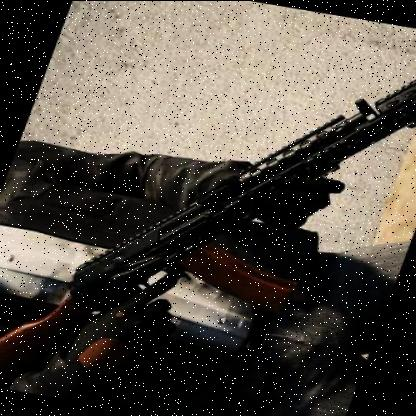rifle: (0, 17, 416, 416)
